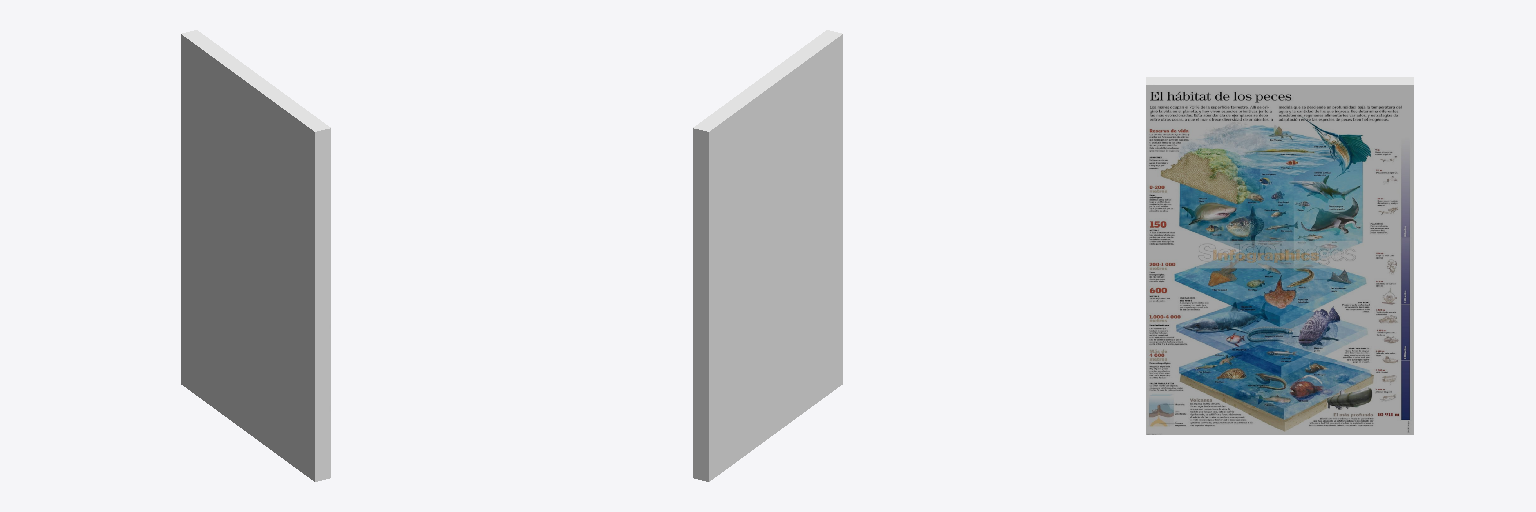
3 renders of one model, left to right at view 1: azimuth 30°, elevation 25°; view 2: azimuth 150°, elevation 25°; view 3: azimuth 270°, elevation 25°, orthographic.
Parts seen in each view (by area): view 1: Cube; view 2: Cube; view 3: Cube.
Boxes of the visible parts, x1,y1,x2,y2 form: Cube: [181, 30, 330, 481]; Cube: [693, 30, 842, 481]; Cube: [1146, 77, 1413, 434].
Size of the model in its own units: 0.14 by 2.88 by 2.
Materials: 1 (1 with a texture image).